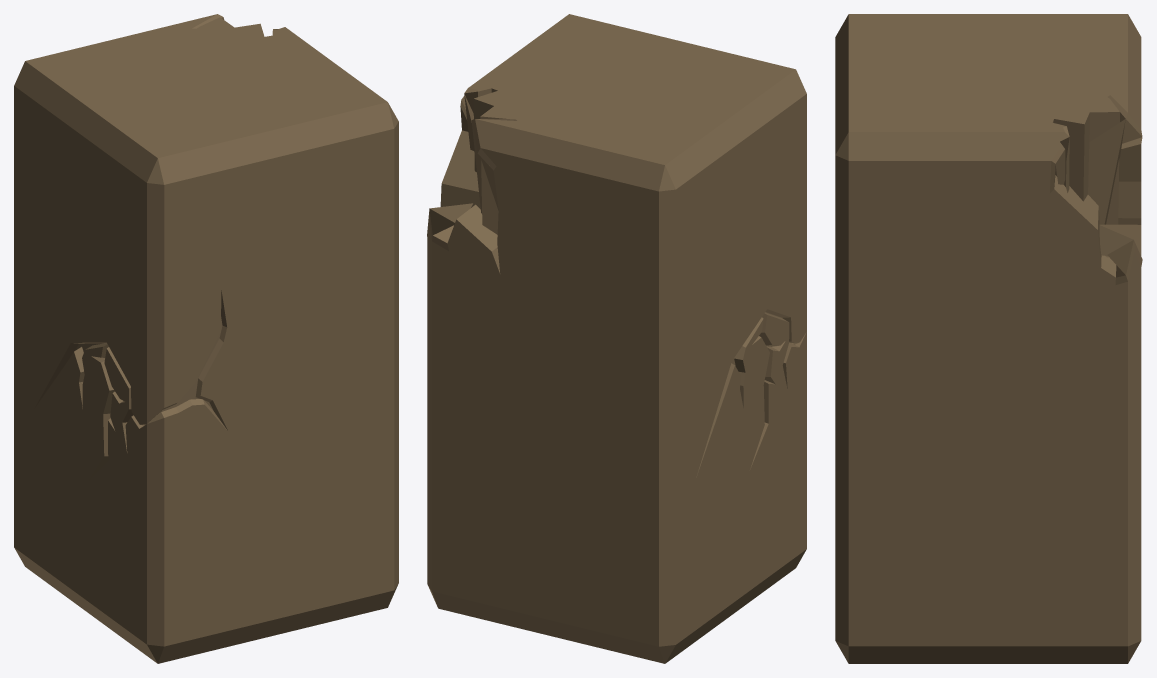
Rendered from LadrilloProp.fbx.
3 views of the same model, side by side, from view 1: azimuth 30°, elevation 25°; view 2: azimuth 150°, elevation 25°; view 3: azimuth 270°, elevation 25° (orthographic). The views are drawn at different scales.
Parts seen in each view (by area): view 1: Ladrillo; view 2: Ladrillo; view 3: Ladrillo.
Boxes of the visible parts, x1=… form: Ladrillo: x1=14, y1=14, x2=398, y2=663; Ladrillo: x1=427, y1=14, x2=806, y2=663; Ladrillo: x1=835, y1=14, x2=1142, y2=663.
Size of the model in its own units: 0.7638 by 1.46 by 0.7628.
